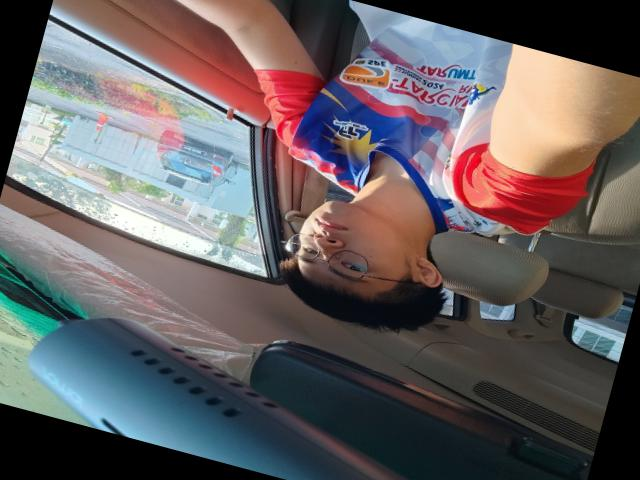eye_open: (334, 254, 368, 277), (298, 242, 321, 258)
face: (286, 191, 410, 302)
